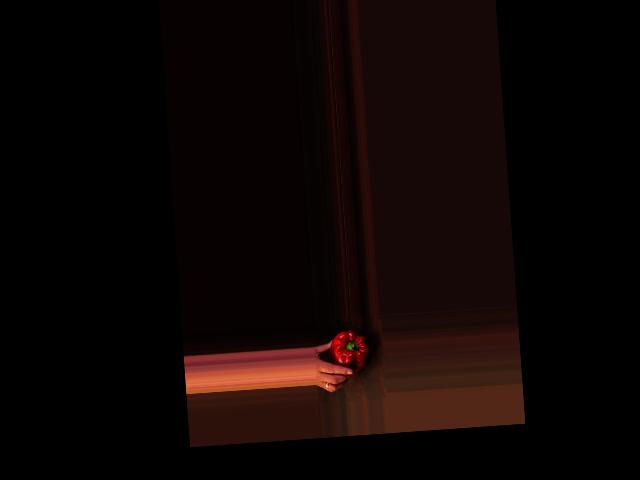bell_pepper: (327, 328, 371, 374)
